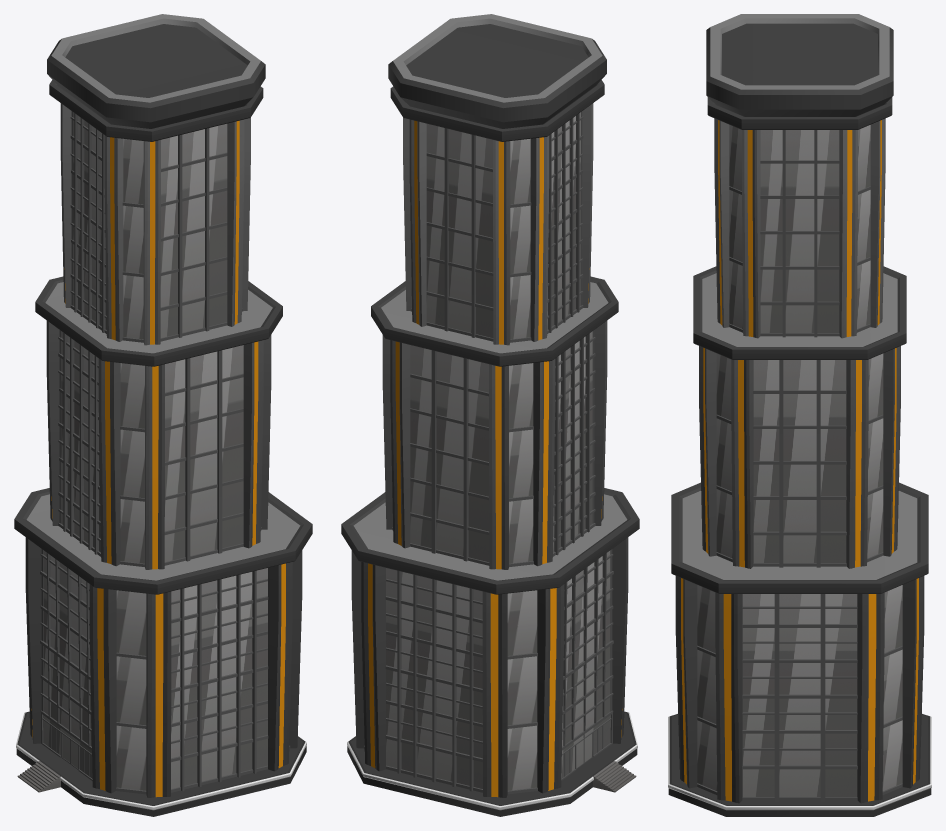
Rendered from Building_7_1_E.fbx.
3 views of the same model, side by side, from view 1: azimuth 30°, elevation 25°; view 2: azimuth 150°, elevation 25°; view 3: azimuth 270°, elevation 25° (orthographic).
Visible parts, largest first — view 1: Building_7_1_E; view 2: Building_7_1_E; view 3: Building_7_1_E.
Boxes of the visible parts, <box> form: Building_7_1_E: <box>14,14,312,816</box>; Building_7_1_E: <box>341,14,639,816</box>; Building_7_1_E: <box>668,14,931,816</box>.
Size of the model in its own units: 2520 by 6846 by 2311.
